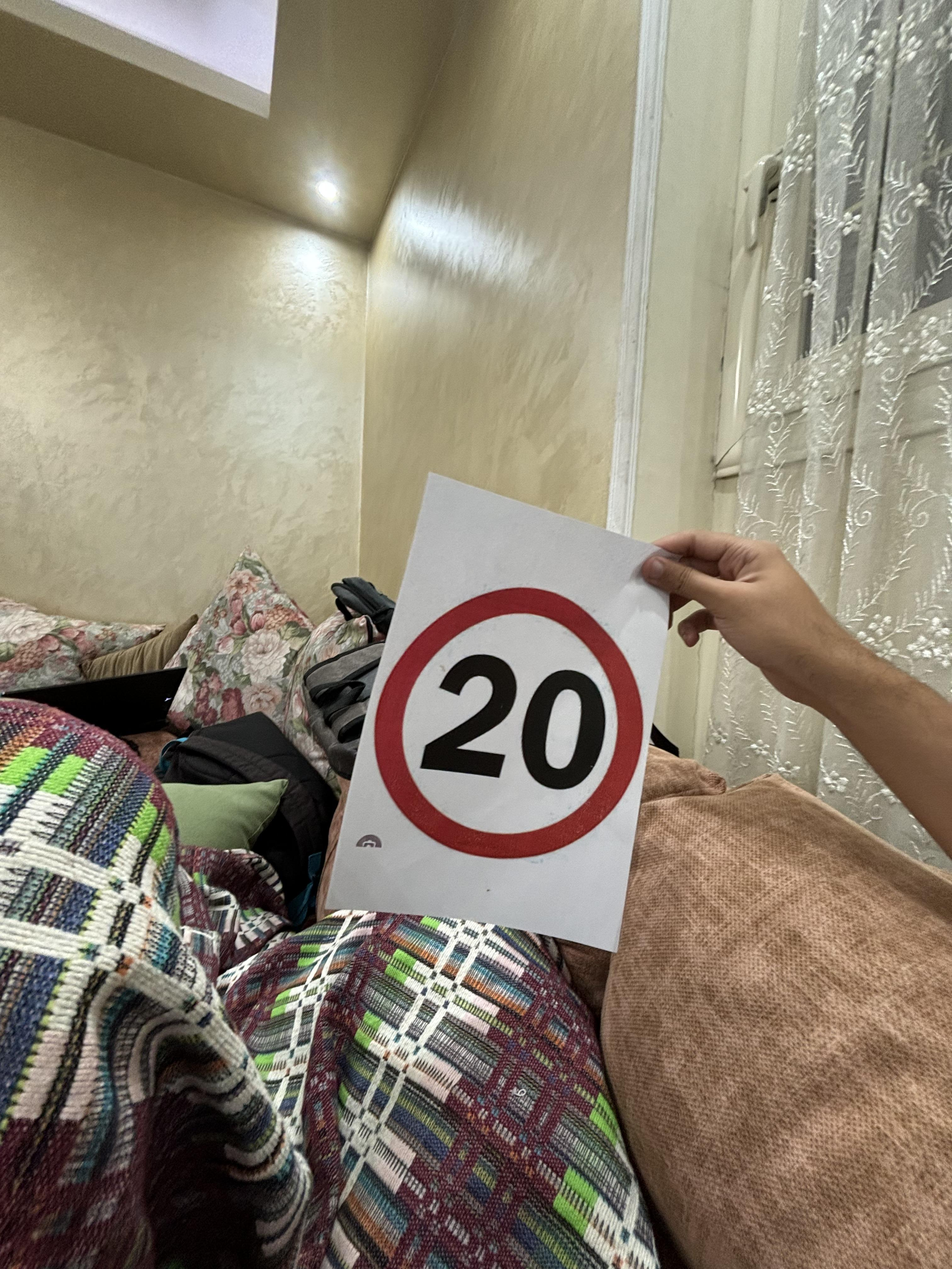20-Speed: (367, 580, 646, 867)
